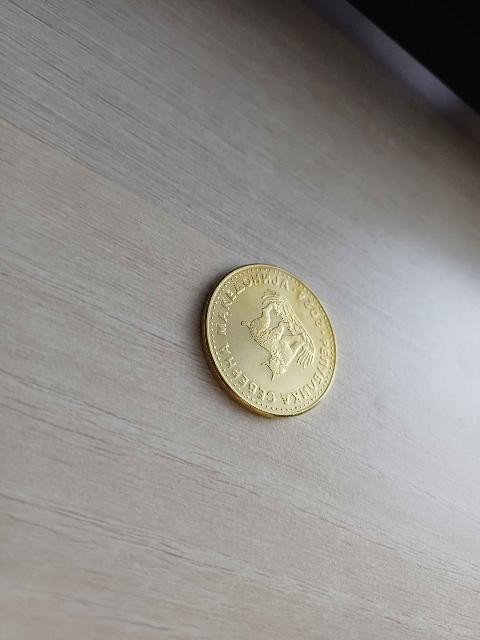5_coin: (202, 265, 335, 416)
